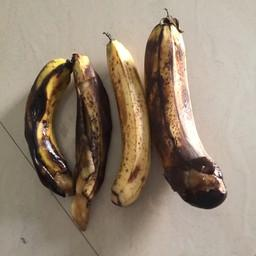Bad_banana: (18, 12, 226, 229)
